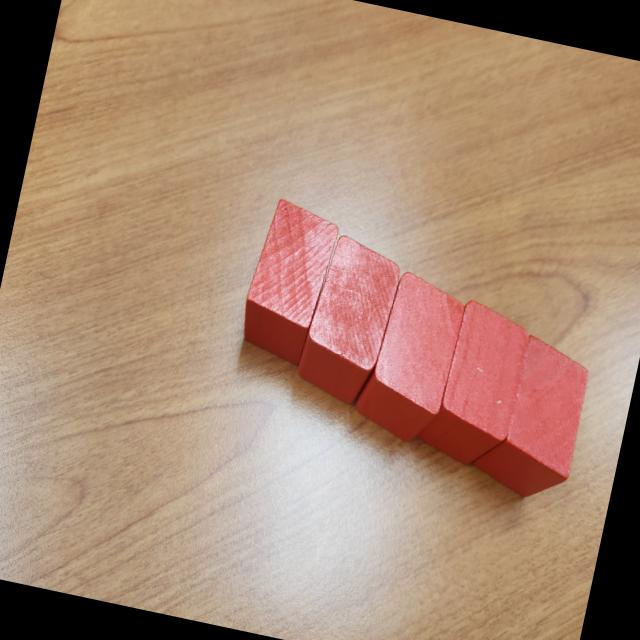red: (465, 326, 596, 507), (410, 292, 536, 474), (348, 264, 471, 450), (292, 232, 406, 410), (234, 194, 343, 368)
